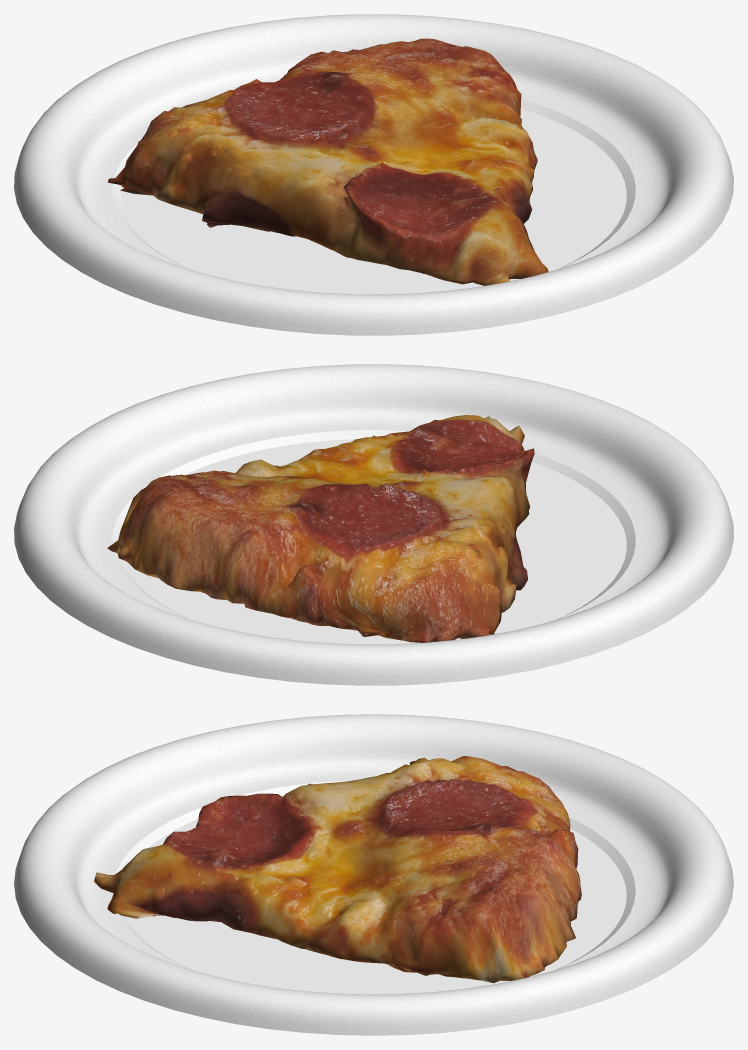
The model's file is Pizza Slice.fbx.
3 renders of one model, top to bottom at view 1: azimuth 30°, elevation 25°; view 2: azimuth 150°, elevation 25°; view 3: azimuth 270°, elevation 25°, orthographic.
Visible parts, largest first — view 1: LOD 0; view 2: LOD 0; view 3: LOD 0.
Boxes of the visible parts, left/top/right/bottom form: LOD 0: left=14, top=14, right=733, bottom=335; LOD 0: left=14, top=364, right=733, bottom=685; LOD 0: left=14, top=714, right=733, bottom=1035.
Size of what is drawn, in the model's own units: 422 by 53.63 by 422.
